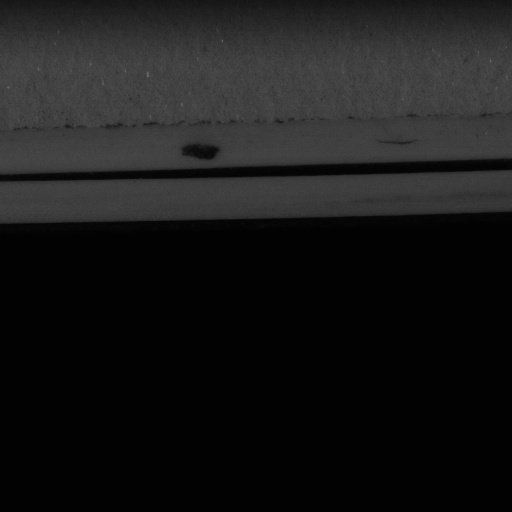kaijiao: (0, 107, 511, 223)
